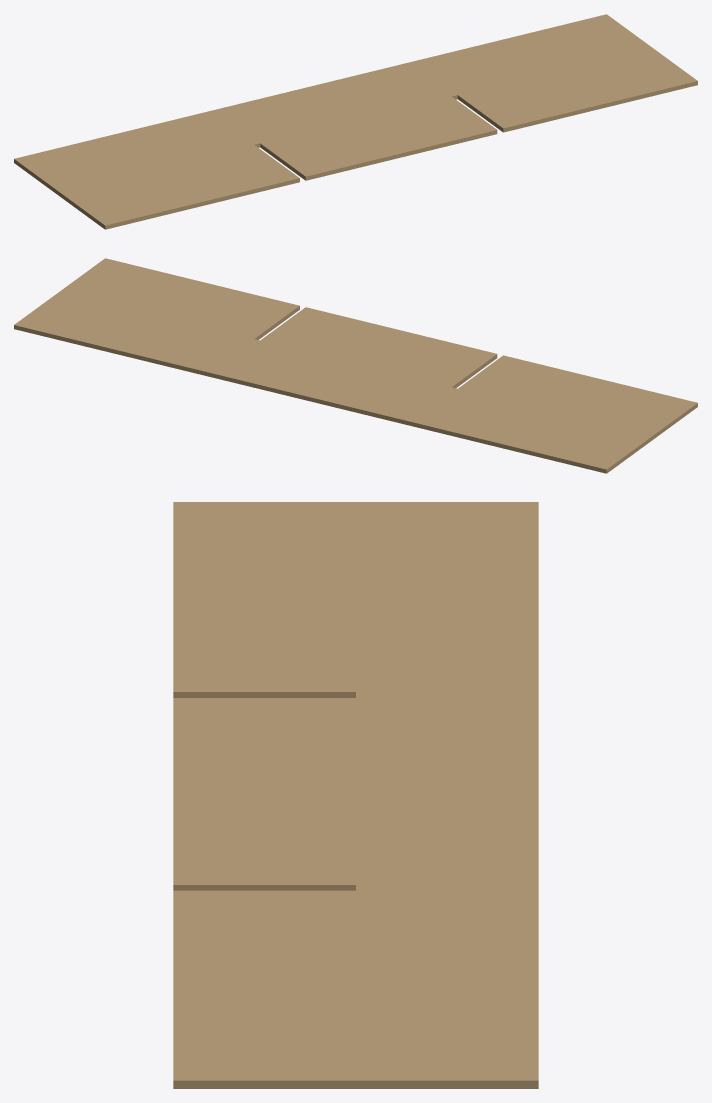
File: paper.glb
3 views of the same model, one above another, from view 1: azimuth 30°, elevation 25°; view 2: azimuth 150°, elevation 25°; view 3: azimuth 270°, elevation 25° (orthographic). The views are drawn at different scales.
Visible parts, largest first — view 1: SlottedPartition; view 2: SlottedPartition; view 3: SlottedPartition.
Boxes of the visible parts, bbox=[...] form: SlottedPartition: bbox=[14, 14, 697, 229]; SlottedPartition: bbox=[14, 258, 697, 473]; SlottedPartition: bbox=[173, 502, 538, 1088].
Size of what is drawn, in the model's own units: 0.3 by 0.002 by 0.08.
